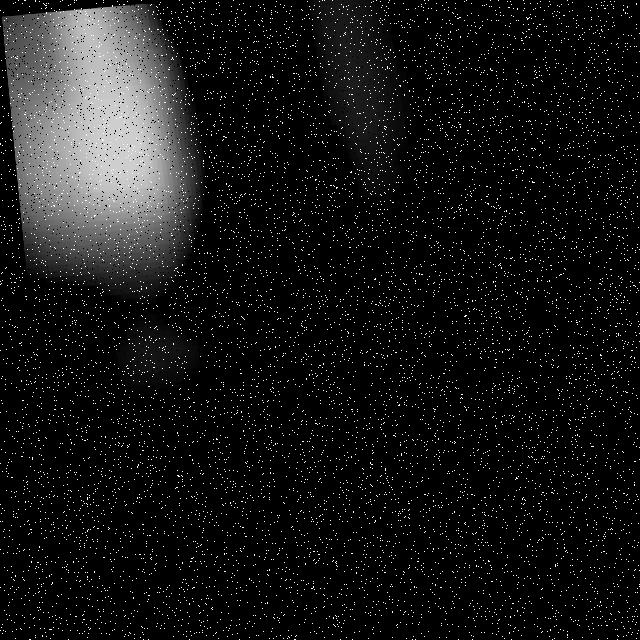person: (1, 1, 255, 354)
